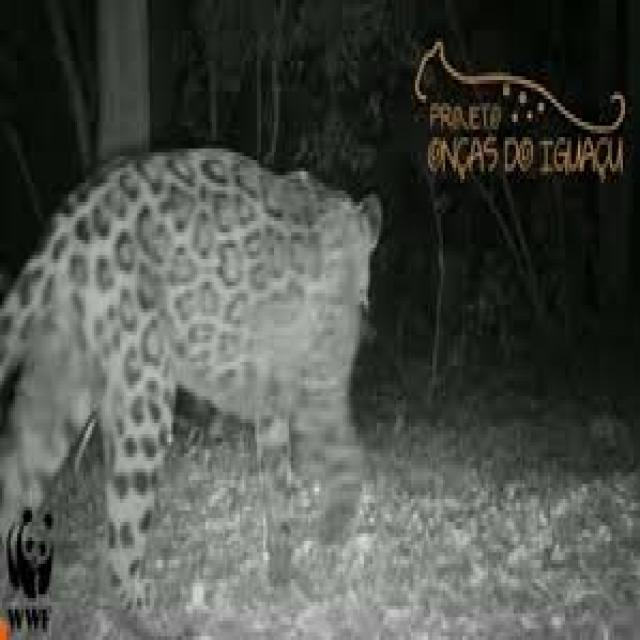Jaguar: (0, 144, 385, 613)
